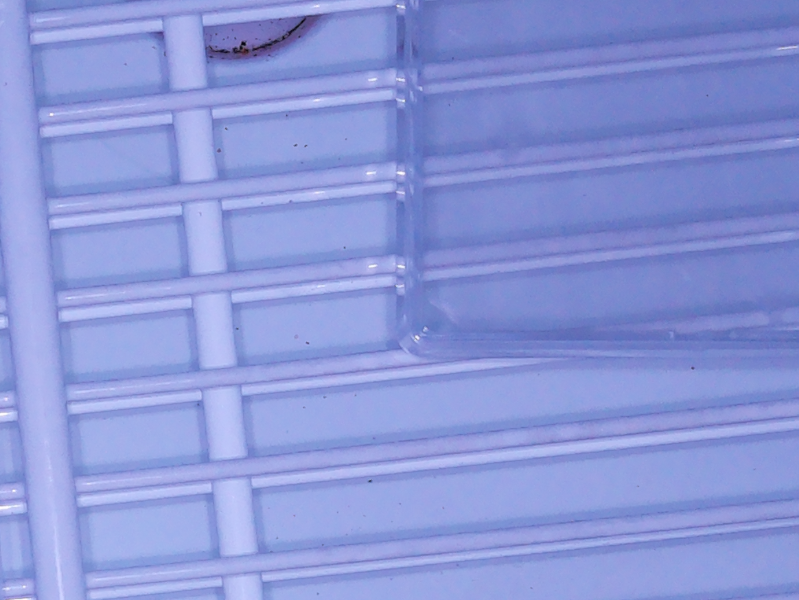plate: (395, 1, 799, 359)
